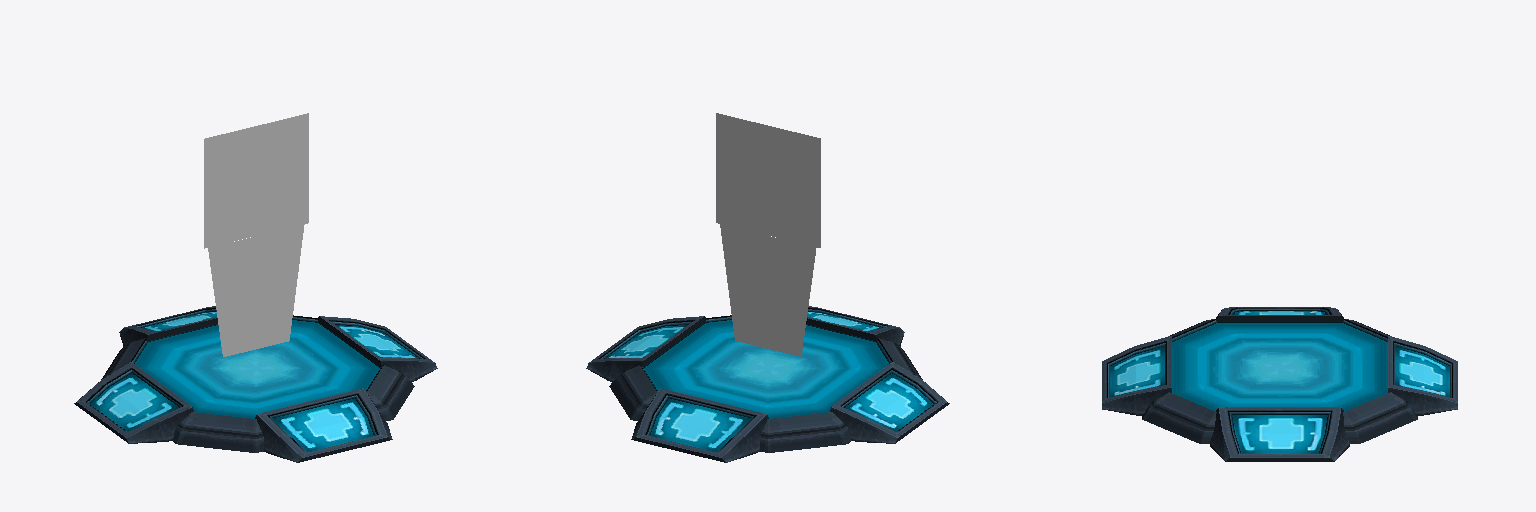
3 renders of one model, left to right at view 1: azimuth 30°, elevation 25°; view 2: azimuth 150°, elevation 25°; view 3: azimuth 270°, elevation 25°, orthographic.
Visible parts, largest first — view 1: Texture_968, Texture_969; view 2: Texture_968, Texture_969; view 3: Texture_968.
Boxes of the visible parts, box(x1,y1,x2,y2) form: Texture_968: box(74, 306, 437, 462); Texture_969: box(204, 113, 308, 356); Texture_968: box(586, 306, 949, 462); Texture_969: box(716, 113, 820, 356); Texture_968: box(1102, 307, 1457, 461).
Size of the model in its own units: 29.8 by 24 by 29.8.
Materials: 2 (1 with a texture image).